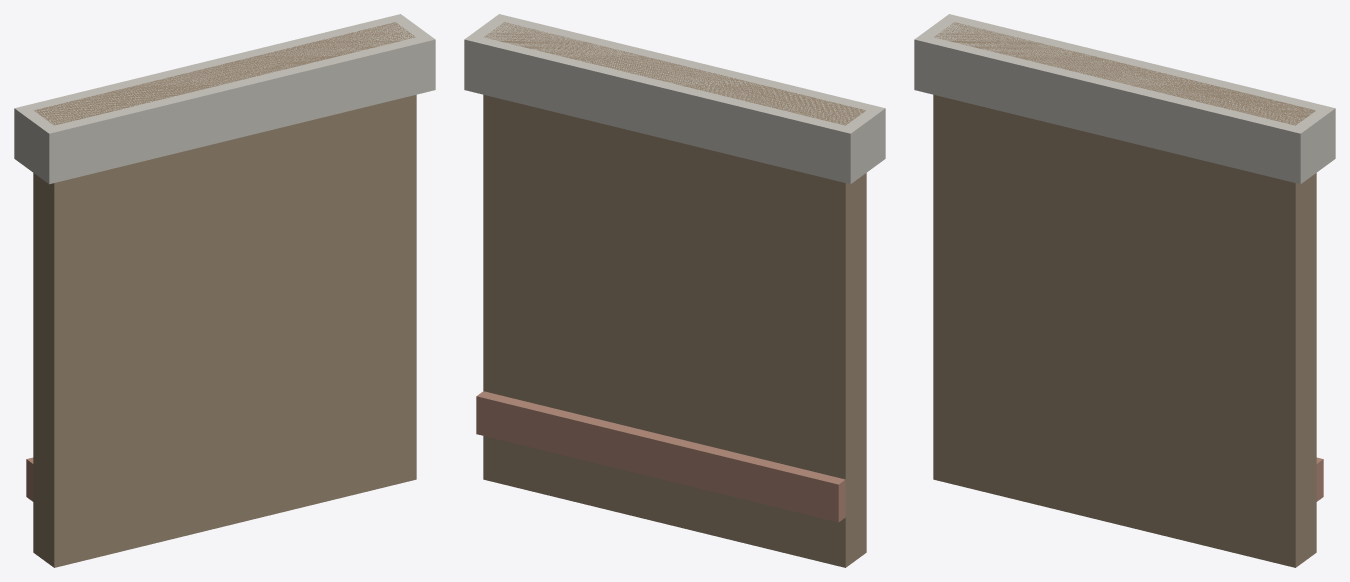
File: iz3_build_defense_window_shutter_02.glb
3 renders of one model, left to right at view 1: azimuth 30°, elevation 25°; view 2: azimuth 150°, elevation 25°; view 3: azimuth 330°, elevation 25°, orthographic.
Visible parts, largest first — view 1: wall, cornice; view 2: wall, cornice, sill; view 3: wall, cornice.
Part boxes in pixels (x1,y1,x2,y2): wall: (33, 22, 416, 567); cornice: (14, 14, 435, 184); wall: (483, 22, 866, 567); cornice: (464, 14, 885, 184); sill: (476, 391, 845, 522); wall: (933, 22, 1316, 567); cornice: (914, 14, 1335, 184).
Bounding box in the file's own units: 1.28 × 1.4 × 0.2.
